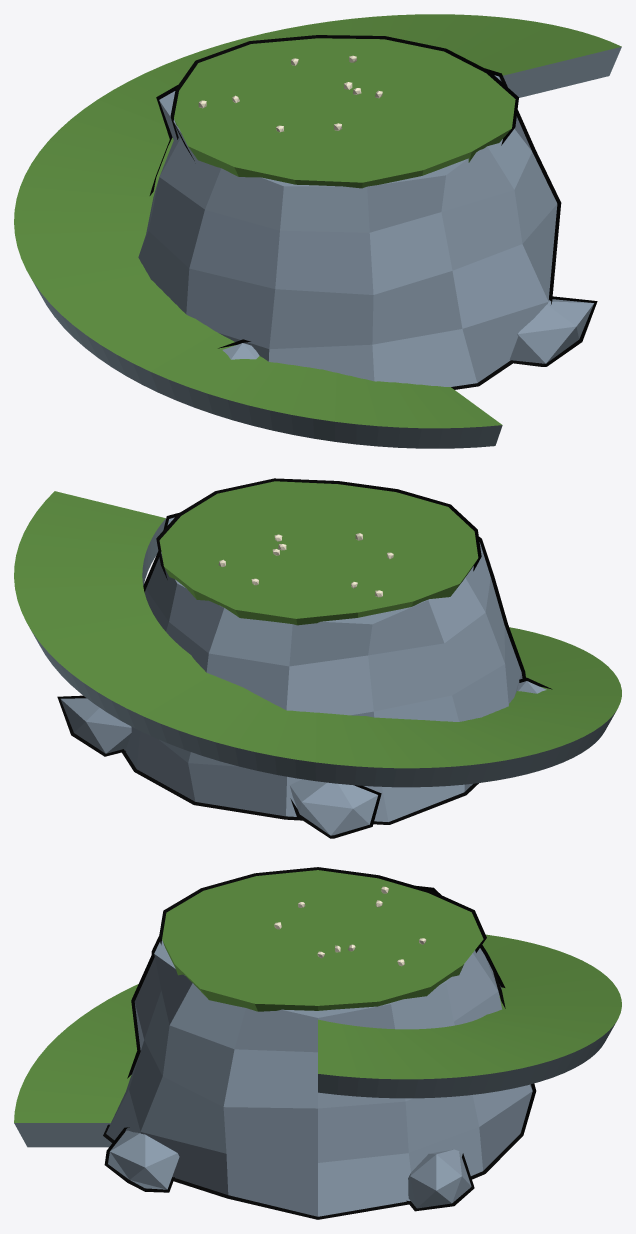
File: Landing_LookoutKnoll.glb
The picture shows the model from 3 angles, top to bottom: view 1: azimuth 30°, elevation 25°; view 2: azimuth 150°, elevation 25°; view 3: azimuth 270°, elevation 25°; orthographic projection. The views are drawn at different scales.
Parts seen in each view (by area): view 1: Knoll_Rock, Knoll_Shelf, Knoll_Ledge, Knoll_OutlineHull; view 2: Knoll_Shelf, Knoll_Rock, Knoll_Ledge, Knoll_OutlineHull; view 3: Knoll_Rock, Knoll_Shelf, Knoll_Ledge, Knoll_OutlineHull.
Boxes of the visible parts, <box> form: Knoll_Rock: <box>138,75,593,386</box>; Knoll_Shelf: <box>14,14,621,448</box>; Knoll_Ledge: <box>174,38,515,188</box>; Knoll_OutlineHull: <box>149,35,597,389</box>; Knoll_Shelf: <box>14,491,621,787</box>; Knoll_Rock: <box>60,517,546,835</box>; Knoll_Ledge: <box>159,481,478,625</box>; Knoll_OutlineHull: <box>57,478,552,838</box>; Knoll_Rock: <box>106,940,532,1216</box>; Knoll_Shelf: <box>14,934,621,1147</box>; Knoll_Ledge: <box>162,870,483,1011</box>; Knoll_OutlineHull: <box>103,867,536,1219</box>.
Bounding box in the file's own units: 9 × 3.51 × 9.
